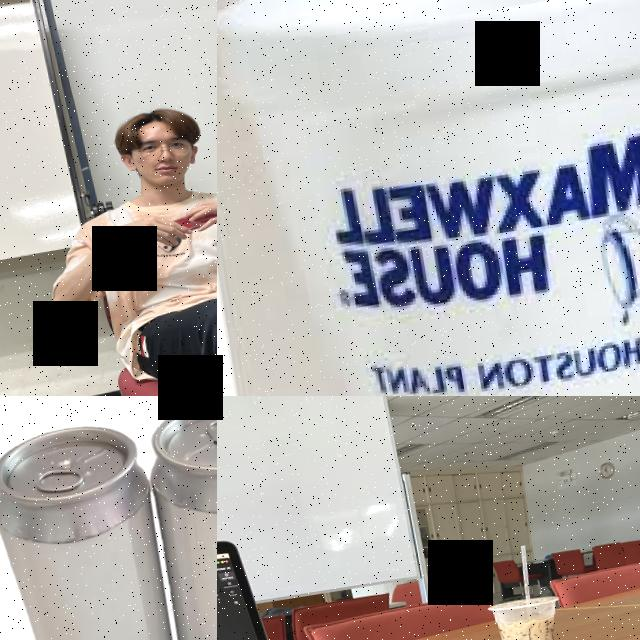can: (0, 413, 194, 640), (138, 396, 217, 640)
cup: (217, 0, 640, 396), (485, 592, 572, 640)
